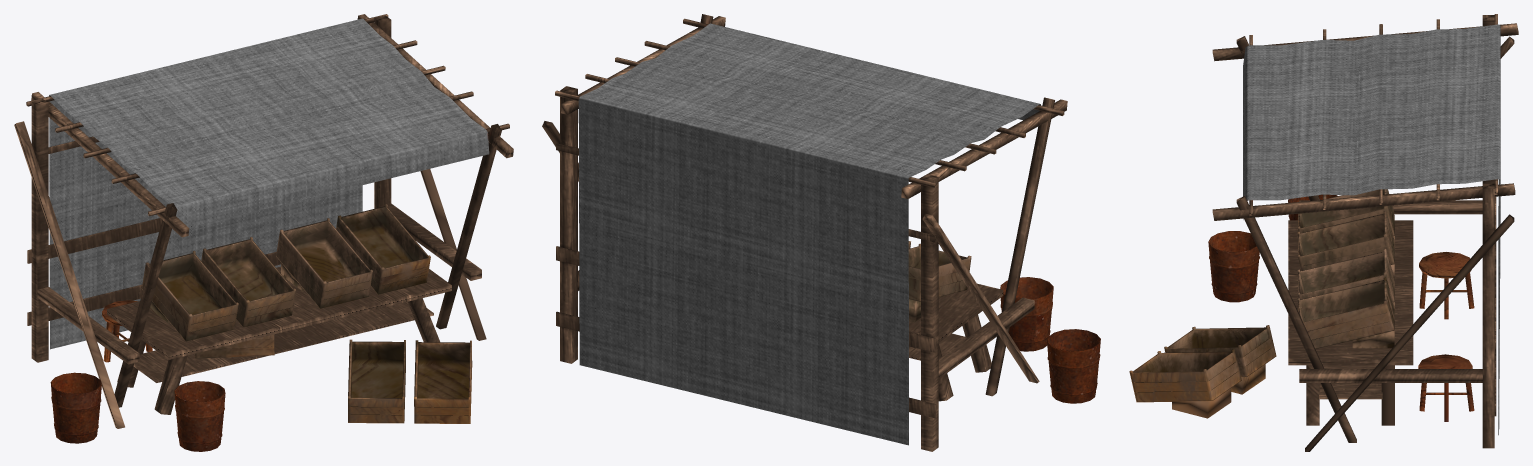
File: Stall.FBX
The picture shows the model from 3 angles, left to right: view 1: azimuth 30°, elevation 25°; view 2: azimuth 150°, elevation 25°; view 3: azimuth 270°, elevation 25°; orthographic projection. The views are drawn at different scales.
Visible parts, largest first — view 1: Tenderete_1; view 2: Tenderete_1; view 3: Tenderete_1.
Part boxes in pixels (box(x1,y1,x2,y2)): Tenderete_1: box(14, 14, 513, 451); Tenderete_1: box(542, 14, 1100, 451); Tenderete_1: box(1129, 14, 1518, 451).
Bounding box in the file's own units: 34.24 × 19.87 × 26.74.
